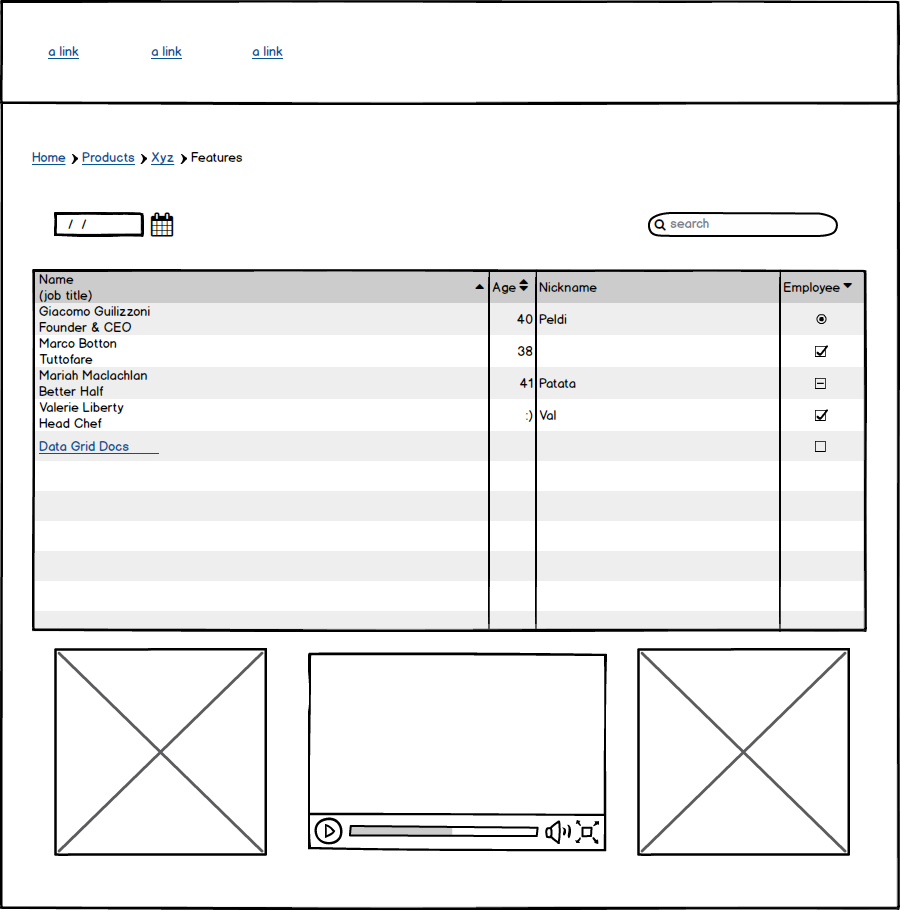date_picker: (46, 201, 178, 246)
h1: (19, 139, 249, 173)
image: (49, 641, 275, 863), (632, 644, 856, 863)
navlink: (140, 38, 196, 69), (244, 35, 289, 69), (40, 35, 89, 63)
search: (640, 202, 849, 244)
table: (18, 262, 875, 637)
video: (307, 645, 610, 858)
